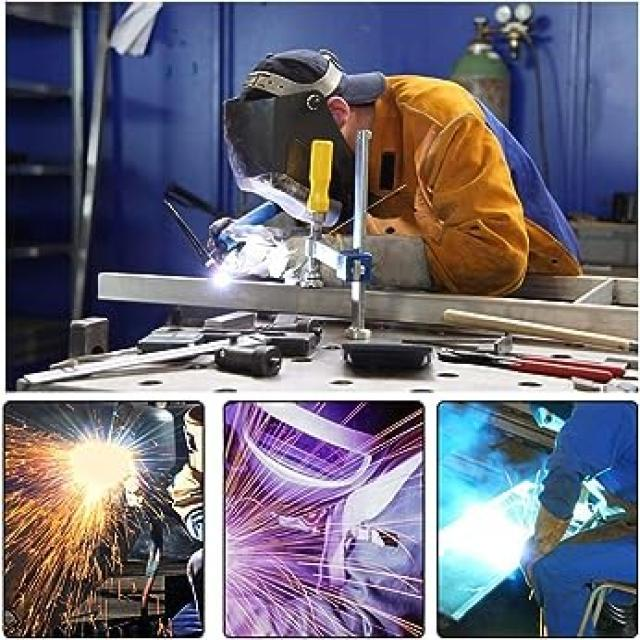with_helmet: (219, 46, 506, 226)
